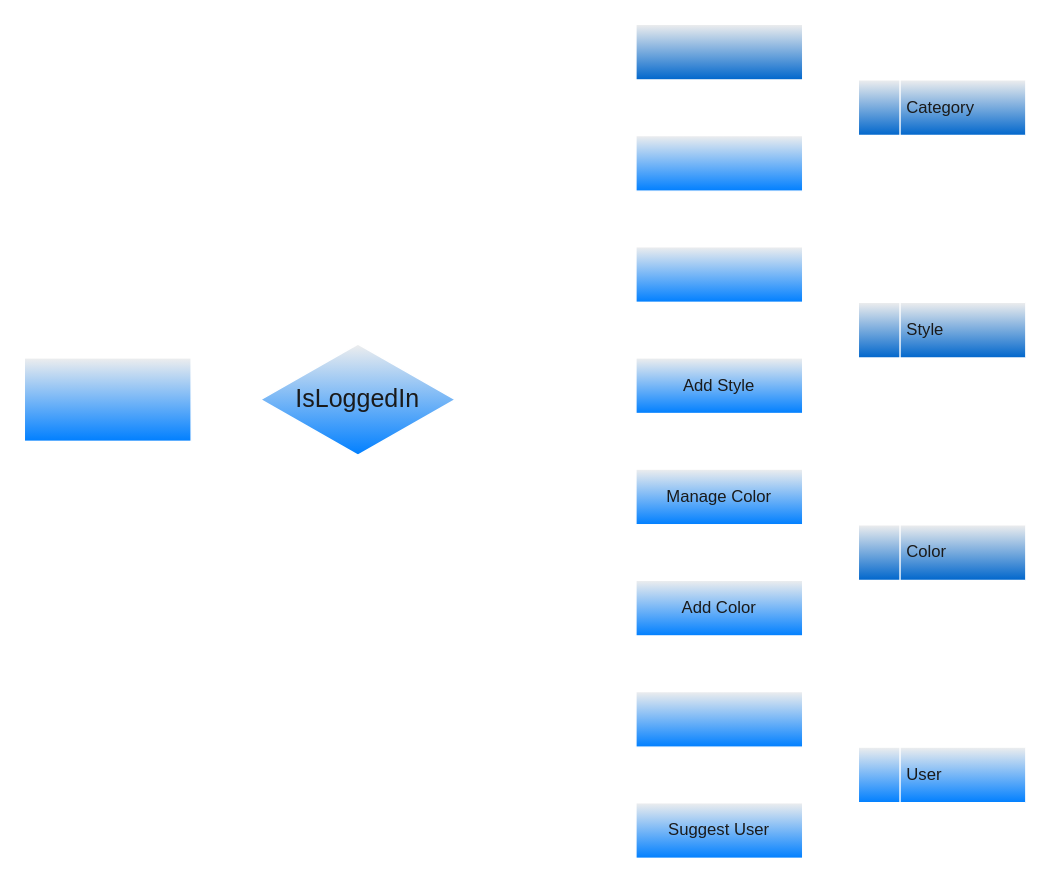
This 1049x884 diagram has some shape labels left out. The shapes that lost their labels are listed below. From the top down, each one's centre as x and y in pixels, then its label:
At pixel 719 51: "Manage Category".
At pixel 719 162: "Add Category".
At pixel 719 273: "Manage Style".
At pixel 107 399: "Login".
At pixel 719 718: "View Users".
